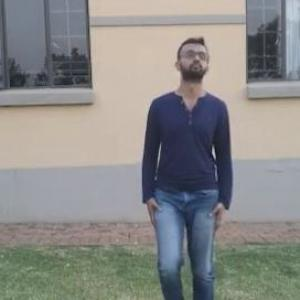follow: (138, 23, 241, 299)
